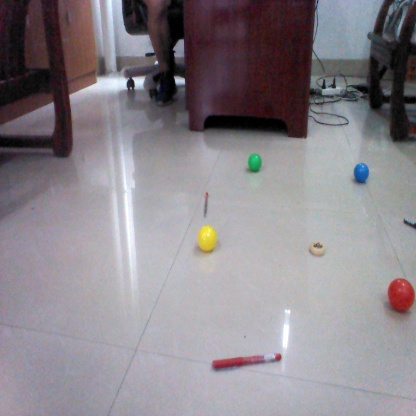ball: (388, 279, 416, 311), (198, 224, 218, 252), (247, 153, 264, 174), (352, 163, 371, 181)
chess: (305, 236, 328, 258)
pen: (206, 351, 280, 369), (199, 190, 210, 218)
